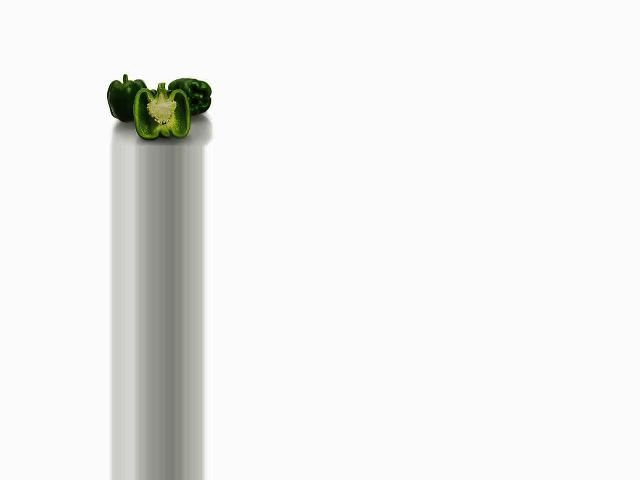bell_pepper: (163, 74, 215, 120)
